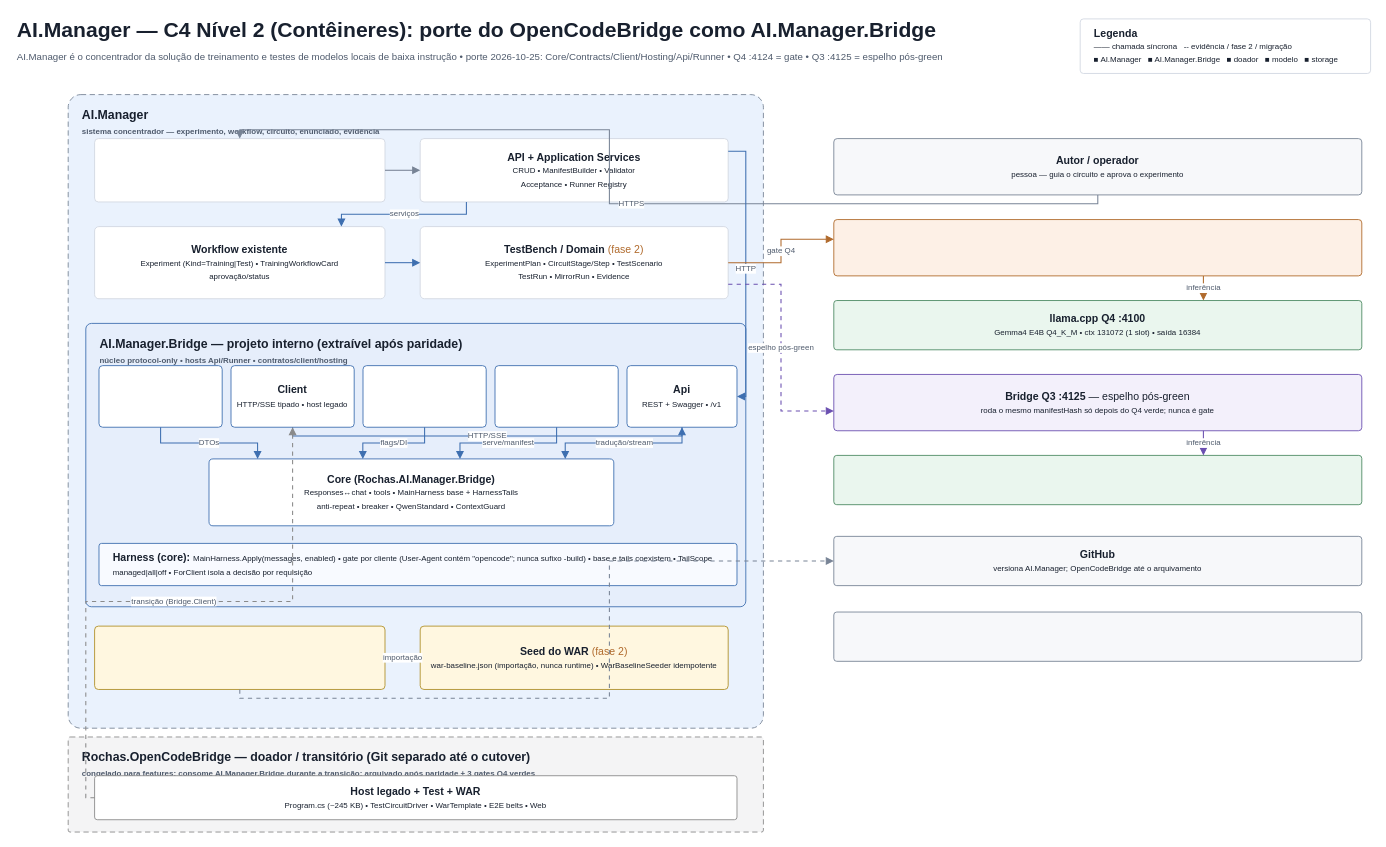
This 1386x847 diagram has some shape labels left out. The shapes that lost their labels are listed below. From the top down, each one's box as (x1, y1, x2, y2) in pixels, then its label:
(94, 138, 385, 202): Web UI catálogo • wizard • mapa do circuito console • evidência
(833, 219, 1362, 276): Bridge Q4 :4124 — GATE instância estável; único critério de aceite
(98, 365, 222, 427): Contracts DTOs • manifest • opções (sem ASP.NET)
(362, 365, 486, 427): Hosting flags • DI • bootstrap
(494, 365, 618, 427): Runner serve • manifest
(833, 455, 1362, 505): llama.cpp Q3 :4110 Gemma4 E4B UD-Q3 • ctx 114688 (2×57344) • saída 16384
(833, 611, 1362, 661): Cloudflare (acesso externo) publica a UI; opcional nesta fase
(94, 625, 385, 689): SQLite definições • versões • runs • metadados de evidência • auditoria
